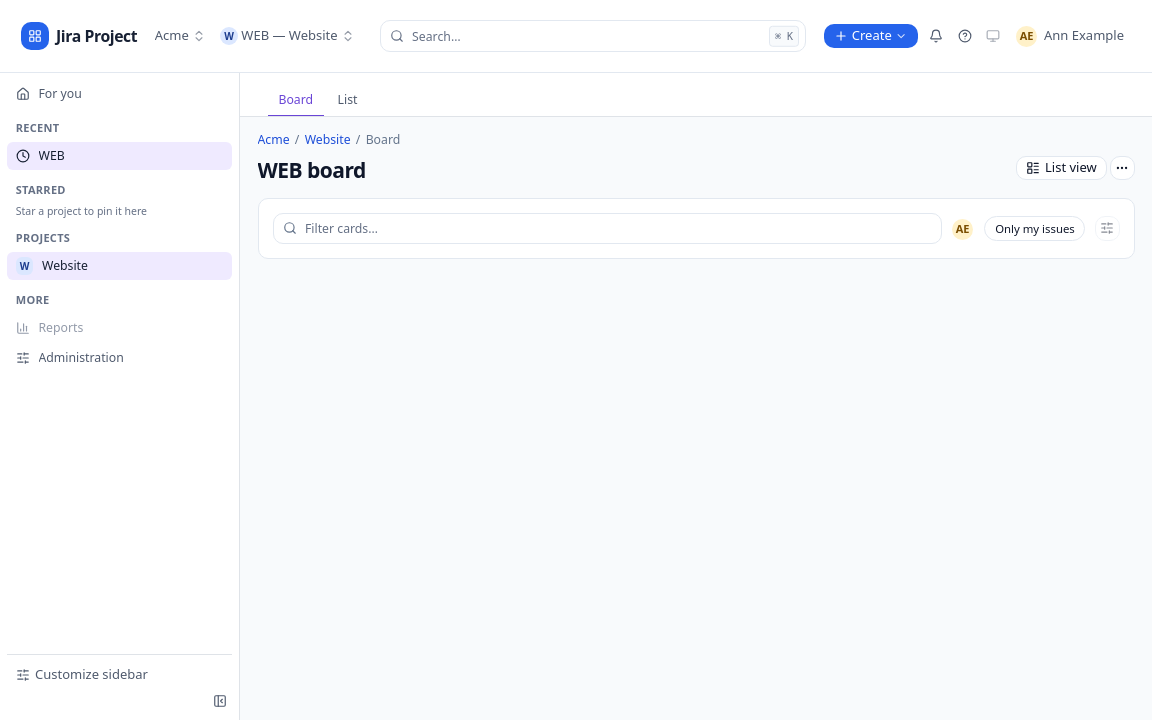
Scenario: numeric tab shortcuts › does nothing for a number with no tab, and ignores digits typed in a field
Check: the navigation bar named "Project" is shown, box [268,84,358,117]
Type keys "9"
Click the dropdown named "search issues and projects".
click(593, 36)  # box [380,20,806,52]
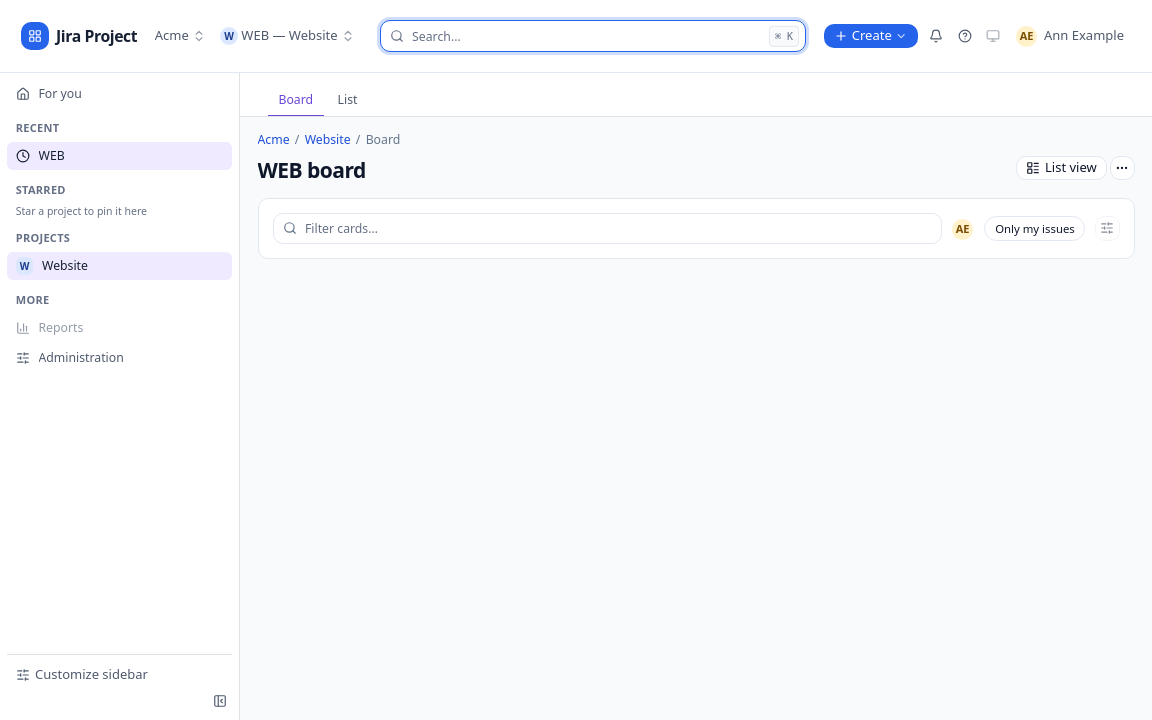
Type keys "2"
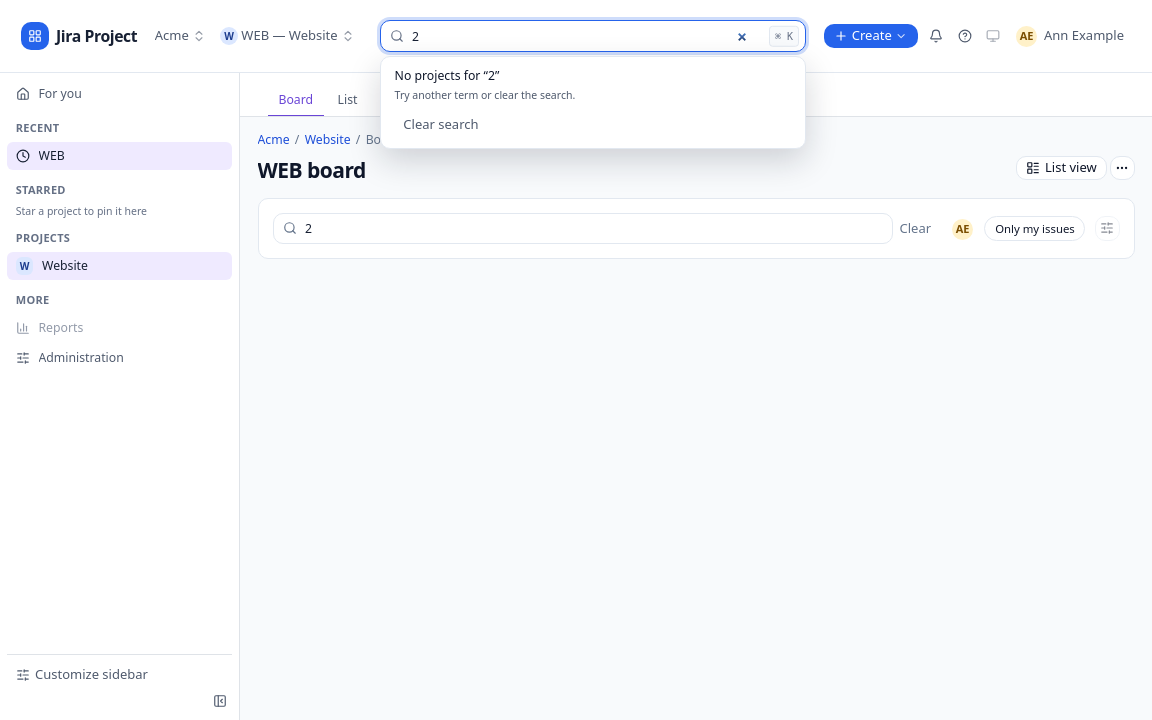
Check: the dropdown named "search issues and projects" holds "2", box [380,20,806,52]
